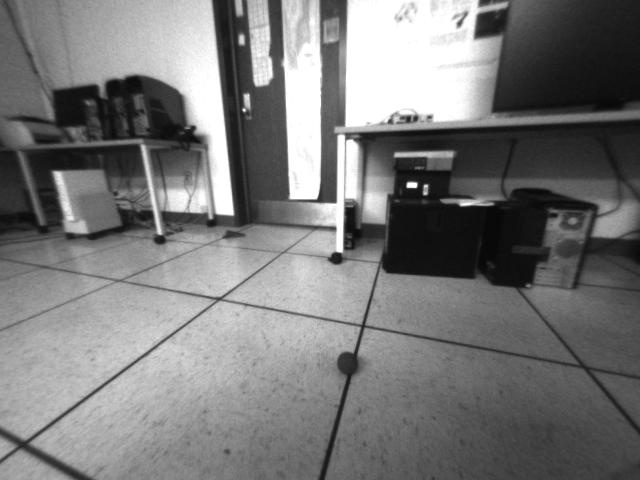dogtoy: (328, 342, 367, 381)
